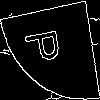P: (24, 25, 68, 67)
